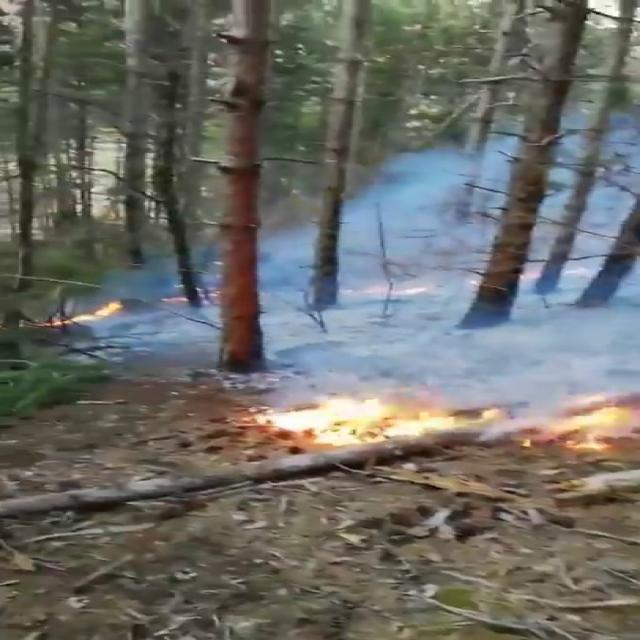Fire: (247, 390, 493, 448), (528, 399, 640, 454), (56, 296, 130, 330)
Smoke: (101, 121, 615, 402)
